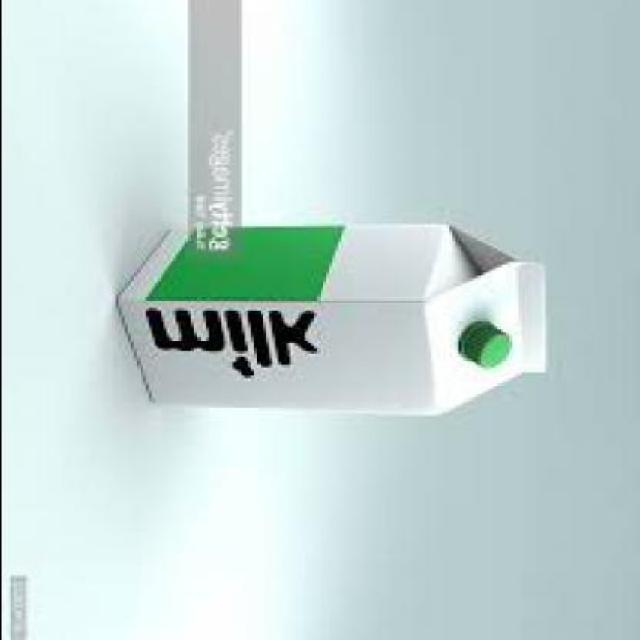CARDBOARD: (118, 227, 550, 421)
